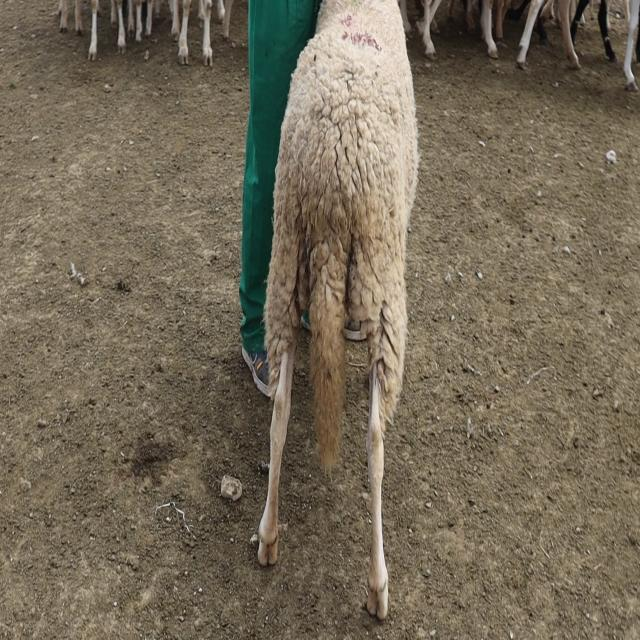Score_3: (258, 0, 418, 619)
